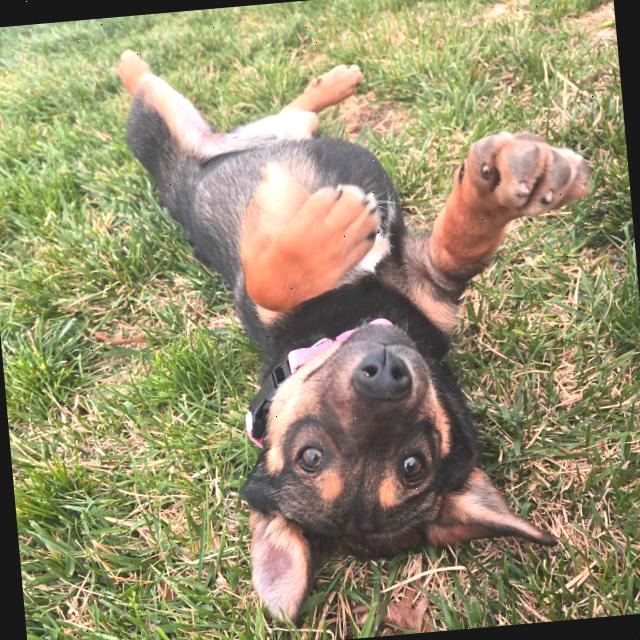corgi_dog: (202, 297, 568, 633)
